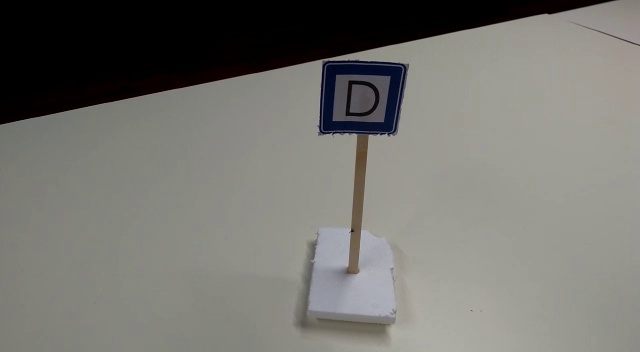durak: (324, 62, 399, 135)
